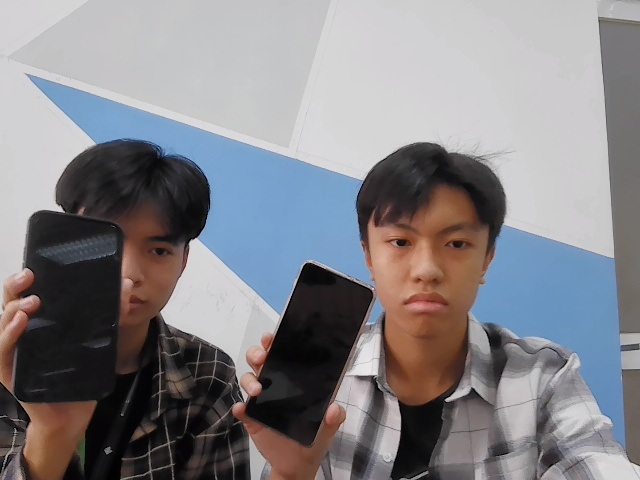human: (347, 129, 517, 330)
phone: (244, 255, 375, 448), (19, 197, 136, 413)
